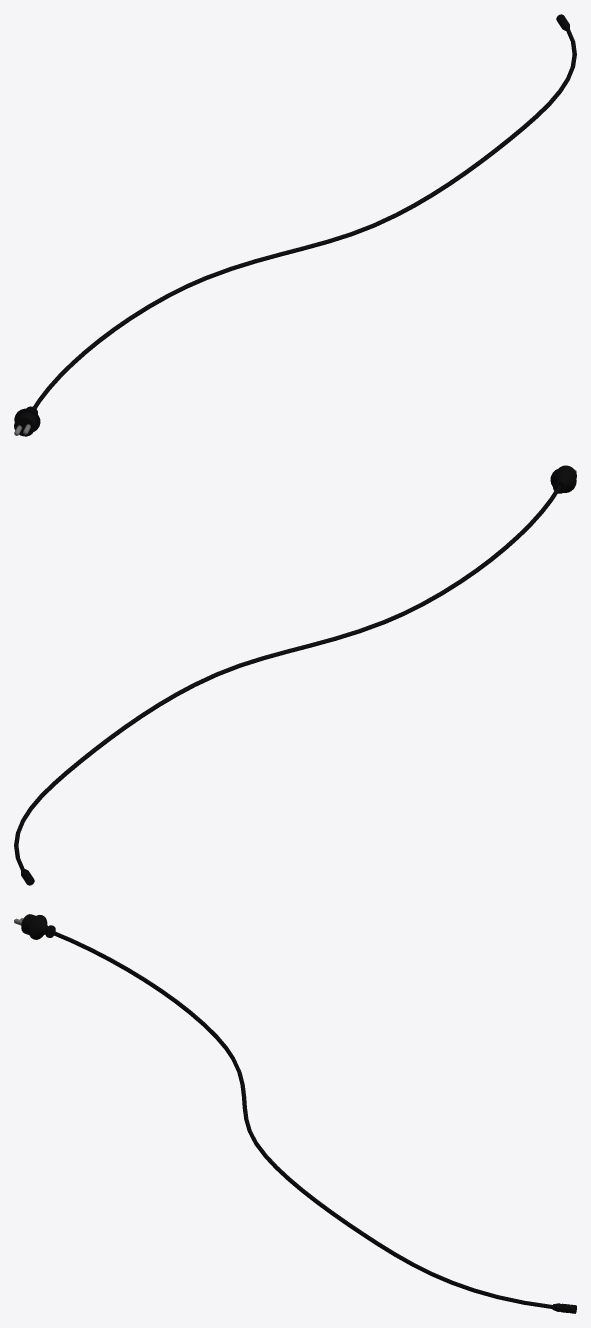
Rendered from Cable_moyen.fbx.
The picture shows the model from 3 angles, top to bottom: view 1: azimuth 30°, elevation 25°; view 2: azimuth 210°, elevation 25°; view 3: azimuth 270°, elevation 25°; orthographic projection. The views are drawn at different scales.
Visible parts, largest first — view 1: polySurface175; view 2: polySurface175; view 3: polySurface175.
Boxes of the visible parts, <box> form: polySurface175: <box>14,14,576,436</box>; polySurface175: <box>14,465,576,885</box>; polySurface175: <box>14,914,576,1313</box>.
Bounding box in the file's own units: 336 × 9.22 × 203.
Materials: 1 (1 with a texture image).
